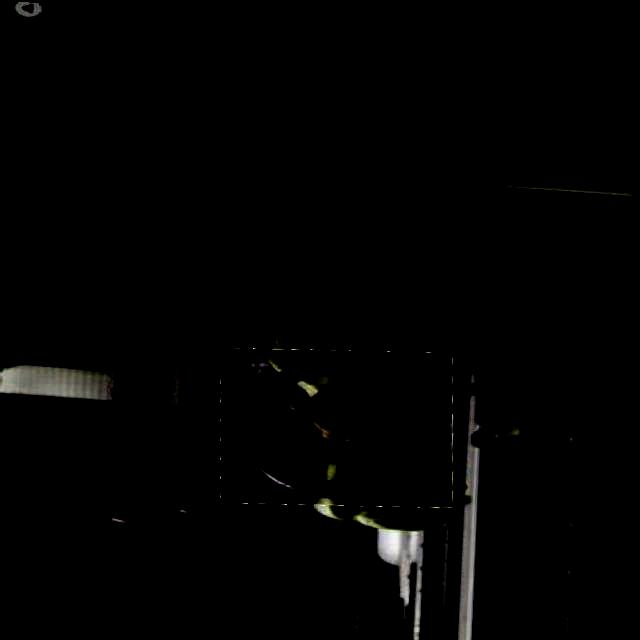barbell: (222, 337, 462, 510)
